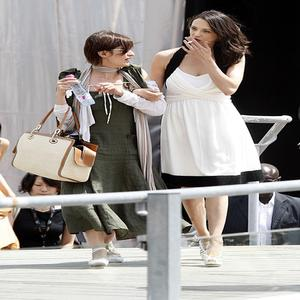cigarette: (181, 38, 196, 47)
